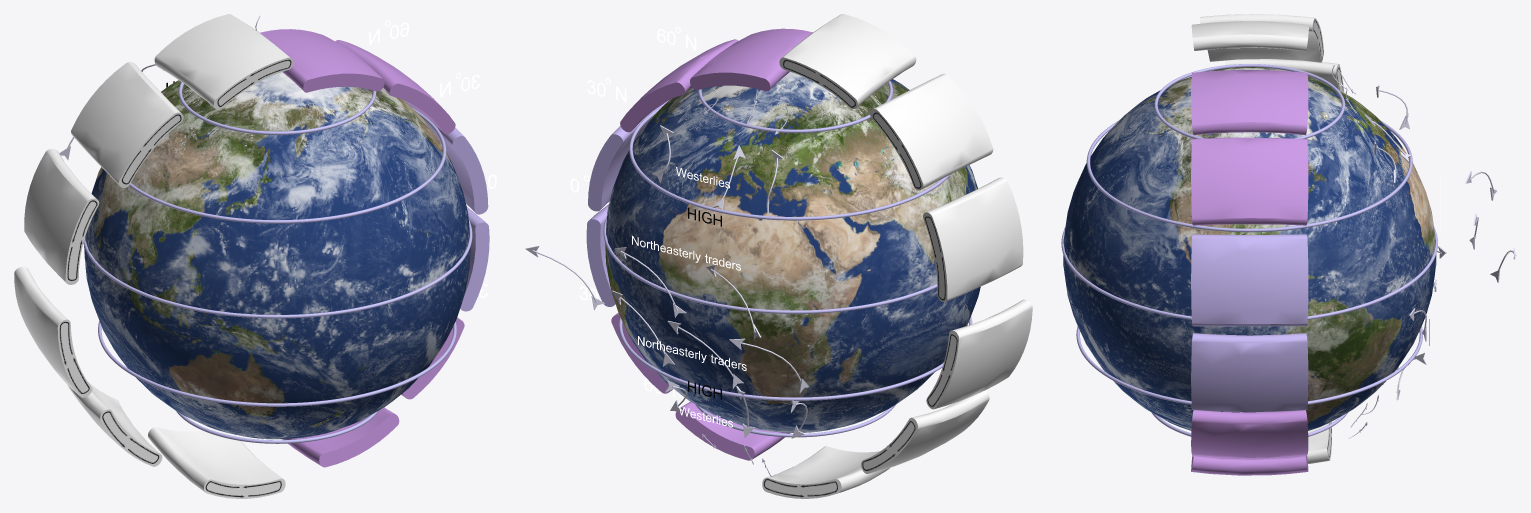
The picture shows the model from 3 angles, left to right: view 1: azimuth 30°, elevation 25°; view 2: azimuth 150°, elevation 25°; view 3: azimuth 270°, elevation 25°; orthographic projection. The views are drawn at different scales.
Parts seen in each view (by area): view 1: EArth, Shape018, Shape017, Divider, Polar cell (×2), Shape019, Shape022, Shape020, Hadley cell (×2), Mid-latitude cell (×2), Shape021; view 2: EArth, Shape019, Shape018, Shape017, Polar cell (×2), Divider, Shape020, Shape021, Shape022, Hadley cell (×2), Mid-latitude cell (×2), Northeasterly traders001; view 3: EArth, Hadley cell (×2), Mid-latitude cell (×2), Polar cell (×2), Divider, Shape017, Shape018, Shape019, Shape022.
Boxes of the visible parts, x1,y1,x2,y2 form: EArth: [84, 72, 470, 439]; Shape018: [71, 62, 183, 187]; Shape017: [154, 14, 293, 109]; Divider: [83, 82, 472, 443]; Polar cell (×2): [260, 29, 399, 467]; Shape019: [24, 149, 99, 284]; Shape022: [148, 427, 285, 498]; Shape020: [14, 266, 92, 397]; Hadley cell (×2): [406, 101, 489, 311]; Mid-latitude cell (×2): [335, 40, 464, 399]; Shape021: [67, 382, 162, 466]; EArth: [605, 72, 980, 432]; Shape019: [923, 177, 1023, 302]; Shape018: [870, 73, 993, 190]; Shape017: [779, 14, 916, 108]; Polar cell (×2): [675, 28, 812, 460]; Divider: [603, 81, 972, 437]; Shape020: [926, 299, 1032, 409]; Shape021: [861, 390, 989, 473]; Shape022: [762, 446, 889, 498]; Hadley cell (×2): [586, 100, 668, 306]; Mid-latitude cell (×2): [611, 39, 738, 393]; Northeasterly traders001: [632, 235, 746, 370]; EArth: [1063, 67, 1436, 430]; Hadley cell (×2): [1191, 234, 1308, 412]; Mid-latitude cell (×2): [1191, 137, 1308, 457]; Polar cell (×2): [1191, 70, 1308, 475]; Divider: [1061, 64, 1437, 436]; Shape017: [1191, 21, 1308, 51]; Shape018: [1200, 14, 1323, 62]; Shape019: [1225, 59, 1344, 92]; Shape022: [1307, 422, 1331, 463].
Bounding box in the file's own units: 144 × 136 × 130.
Materials: 14 (2 with a texture image).
